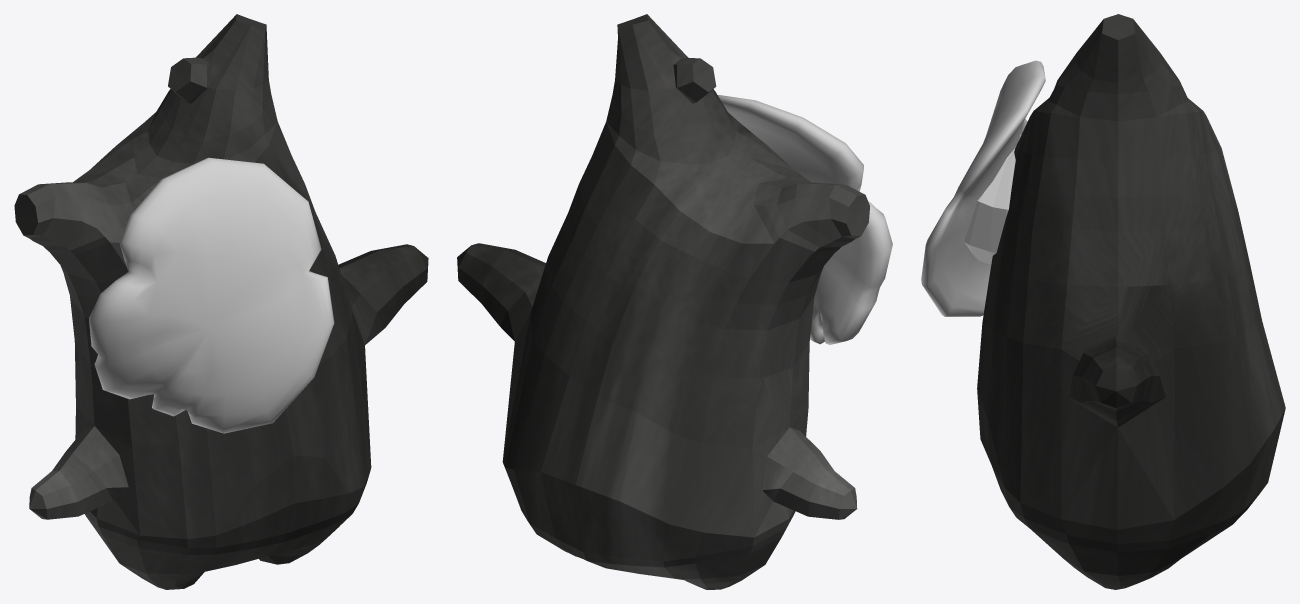
Rendered from frame_0012.obj.
The picture shows the model from 3 angles, left to right: view 1: azimuth 30°, elevation 25°; view 2: azimuth 150°, elevation 25°; view 3: azimuth 270°, elevation 25°; orthographic projection.
Parts seen in each view (by area): view 1: korok, leaf; view 2: korok, leaf; view 3: korok, leaf, nose.
Part boxes in pixels (<box>): korok: <box>14,14,428,589</box>; leaf: <box>89,157,334,433</box>; korok: <box>457,14,869,589</box>; leaf: <box>718,95,892,344</box>; korok: <box>977,14,1285,589</box>; leaf: <box>921,60,1045,316</box>; nose: <box>964,134,1021,264</box>.
Size of the model in its own units: 1.77 by 2.3 by 1.38.
